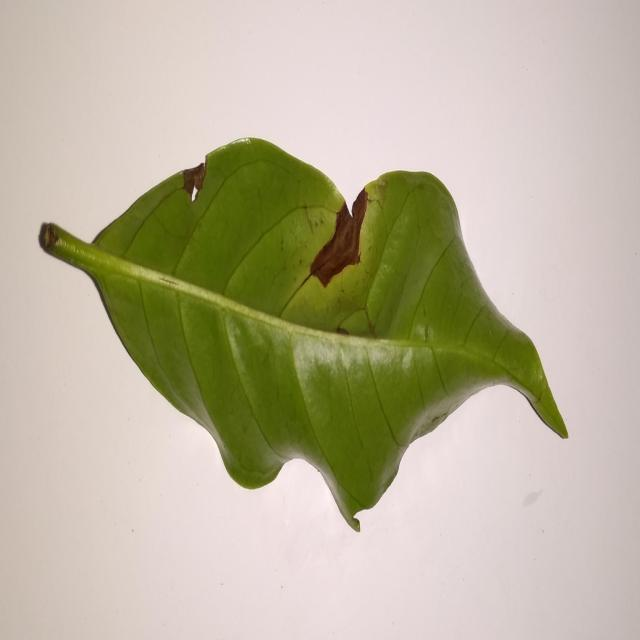phoma: (308, 188, 368, 287), (182, 157, 207, 202)
